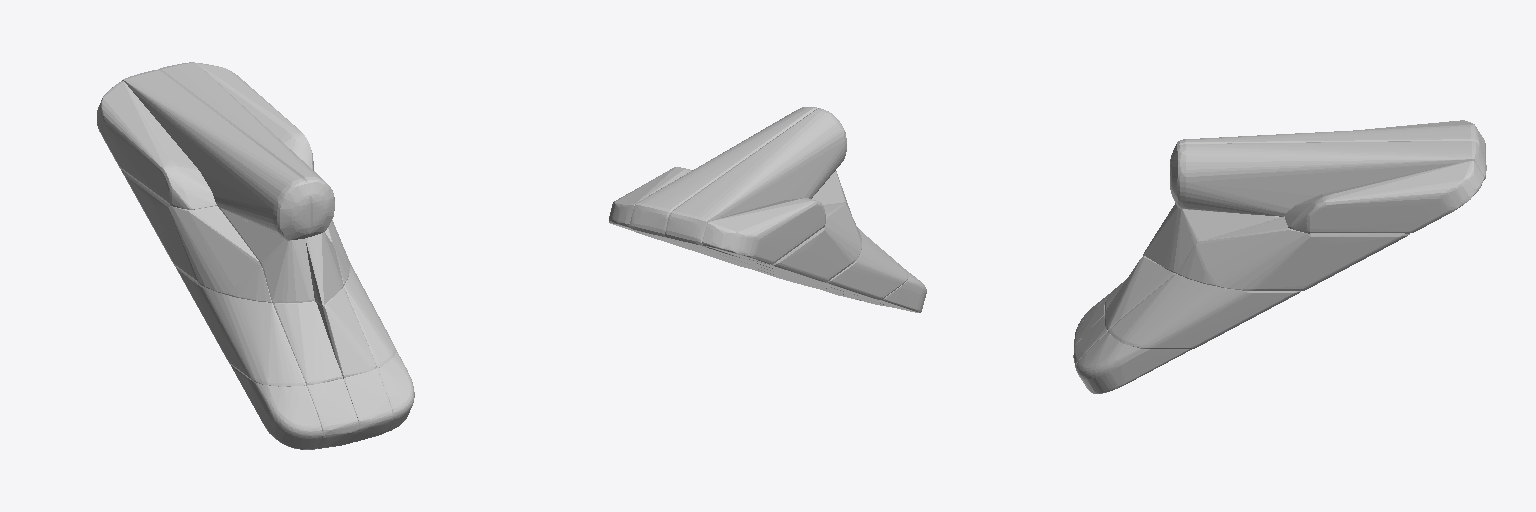
The model's file is toe-roll_split.obj.
3 views of the same model, side by side, from view 1: azimuth 30°, elevation 25°; view 2: azimuth 150°, elevation 25°; view 3: azimuth 270°, elevation 25° (orthographic).
Visible parts, largest first — view 1: geometry_7, geometry_2, geometry_3, geometry_1, geometry_11, geometry_6, geometry_0, geometry_5, geometry_9, geometry_15, geometry_4, geometry_8 (+4 smaller); view 2: geometry_7, geometry_3, geometry_11, geometry_2, geometry_1, geometry_15, geometry_0, geometry_6; view 3: geometry_11, geometry_14, geometry_15, geometry_13, geometry_10, geometry_12, geometry_7, geometry_9, geometry_8.
Part boxes in pixels (bbox=[...]): geometry_7: bbox=[122, 70, 310, 240]; geometry_2: bbox=[121, 170, 271, 302]; geometry_3: bbox=[97, 81, 216, 209]; geometry_1: bbox=[176, 268, 305, 386]; geometry_11: bbox=[158, 62, 334, 236]; geometry_6: bbox=[219, 207, 314, 302]; geometry_0: bbox=[231, 365, 322, 449]; geometry_5: bbox=[273, 301, 342, 384]; geometry_9: bbox=[317, 286, 376, 378]; geometry_15: bbox=[197, 63, 313, 170]; geometry_4: bbox=[306, 378, 358, 448]; geometry_8: bbox=[344, 368, 392, 441]; geometry_7: bbox=[665, 108, 846, 256]; geometry_3: bbox=[702, 198, 825, 264]; geometry_11: bbox=[629, 107, 817, 247]; geometry_2: bbox=[740, 203, 861, 282]; geometry_1: bbox=[798, 229, 908, 299]; geometry_15: bbox=[609, 167, 691, 233]; geometry_0: bbox=[858, 269, 926, 312]; geometry_6: bbox=[711, 171, 851, 273]; geometry_11: bbox=[1170, 141, 1486, 216]; geometry_14: bbox=[1176, 216, 1409, 290]; geometry_15: bbox=[1285, 161, 1483, 233]; geometry_13: bbox=[1108, 274, 1300, 348]; geometry_10: bbox=[1143, 203, 1280, 272]; geometry_12: bbox=[1076, 332, 1191, 393]; geometry_7: bbox=[1170, 124, 1485, 161]; geometry_9: bbox=[1105, 256, 1175, 330]; geometry_8: bbox=[1073, 315, 1107, 367].
Bounding box in the file's own units: 0.0861 × 0.1327 × 0.2139.